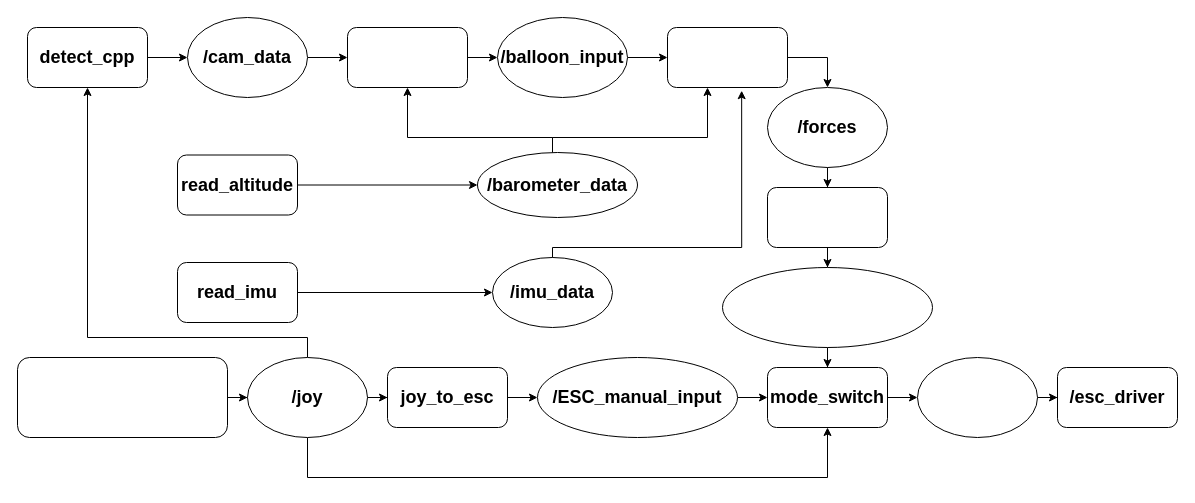
This 1195x503 diagram has some shape labels left out. The shapes that lost their labels are listed below. From the top down, each one's centre as x and y in pixels, then its label:
the point at 407,57: pi_controller
the point at 727,57: inv_kine
the point at 827,217: F_to_Esc
the point at 827,307: /ESC_balloon_input
the point at 122,397: game_controller_node
the point at 977,397: /ESC_input
